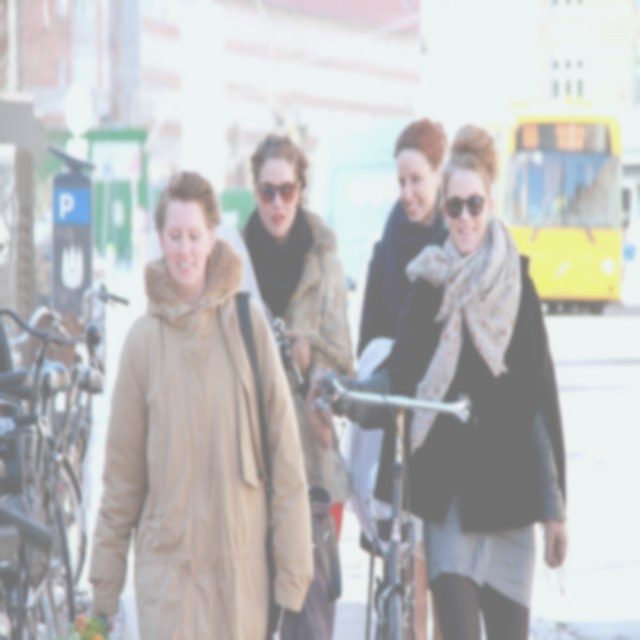pessoa: (317, 123, 571, 639), (86, 168, 316, 638), (236, 132, 354, 634), (354, 110, 450, 380)
